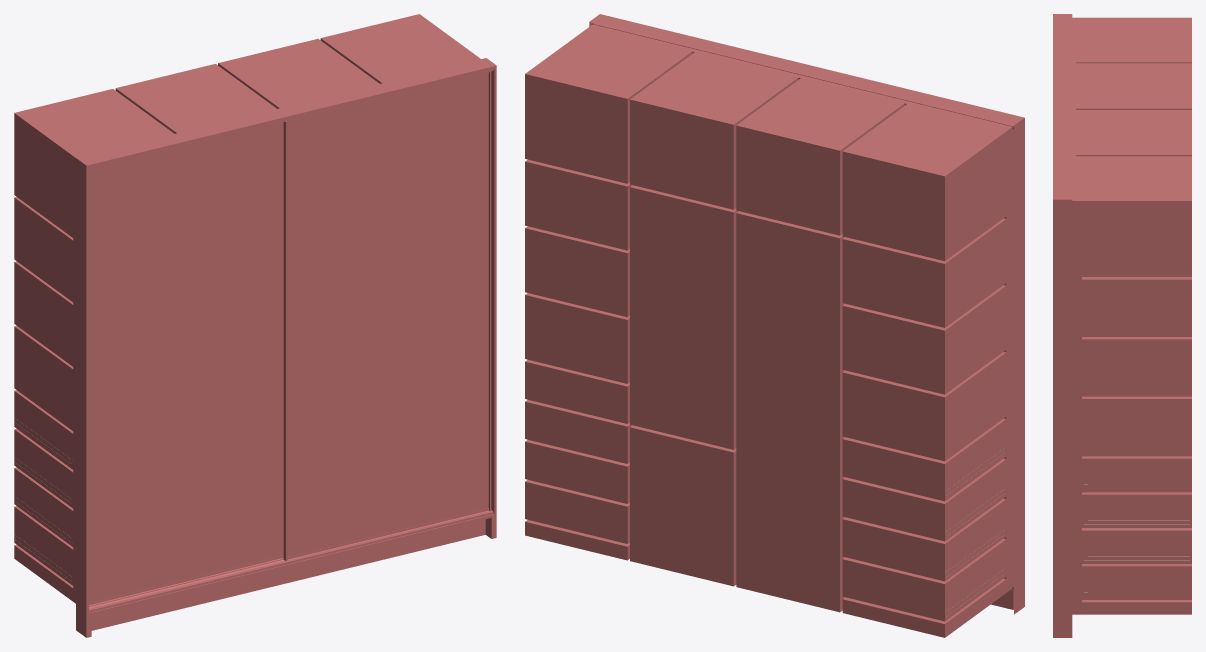
File: Wardrobe.fbx
The picture shows the model from 3 angles, left to right: view 1: azimuth 30°, elevation 25°; view 2: azimuth 150°, elevation 25°; view 3: azimuth 270°, elevation 25°; orthographic projection. The views are drawn at different scales.
Parts seen in each view (by area): view 1: SM_Wardrobe; view 2: SM_Wardrobe; view 3: SM_Wardrobe.
Part boxes in pixels (x1,y1,x2,y2): SM_Wardrobe: (14, 14, 496, 637); SM_Wardrobe: (525, 14, 1024, 637); SM_Wardrobe: (1053, 14, 1191, 637).
Bounding box in the file's own units: 200 × 220 × 63.12.
